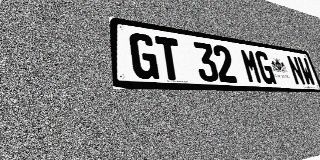2: (212, 44, 237, 83)
3: (193, 41, 220, 82)
G: (129, 32, 160, 80), (254, 50, 277, 84)
M: (239, 48, 263, 84)
N: (286, 55, 307, 86)
T: (155, 36, 184, 81)
W: (297, 57, 317, 86)
